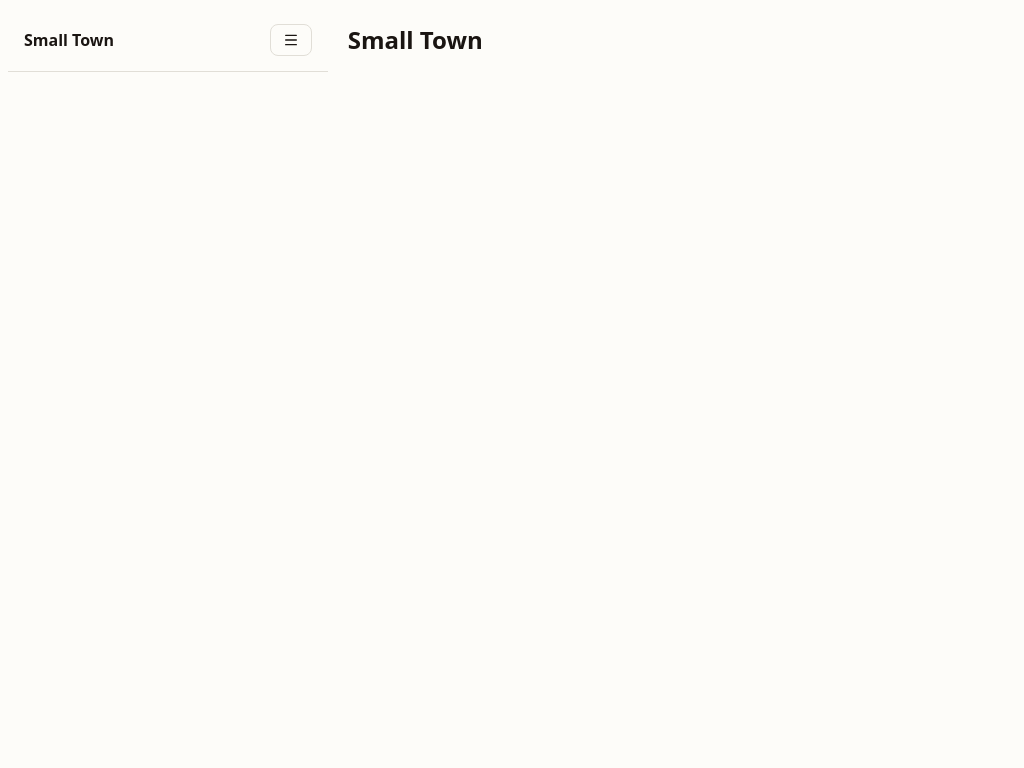
Test case: the side column on a phone › is a drawer behind a top bar: it opens, keeps focus in it, closes on Escape and after the player picks something
The image size is (1024, 768).
Step 1. Click the button named "Open the side panel" → [291, 40], box [270,24,312,56]
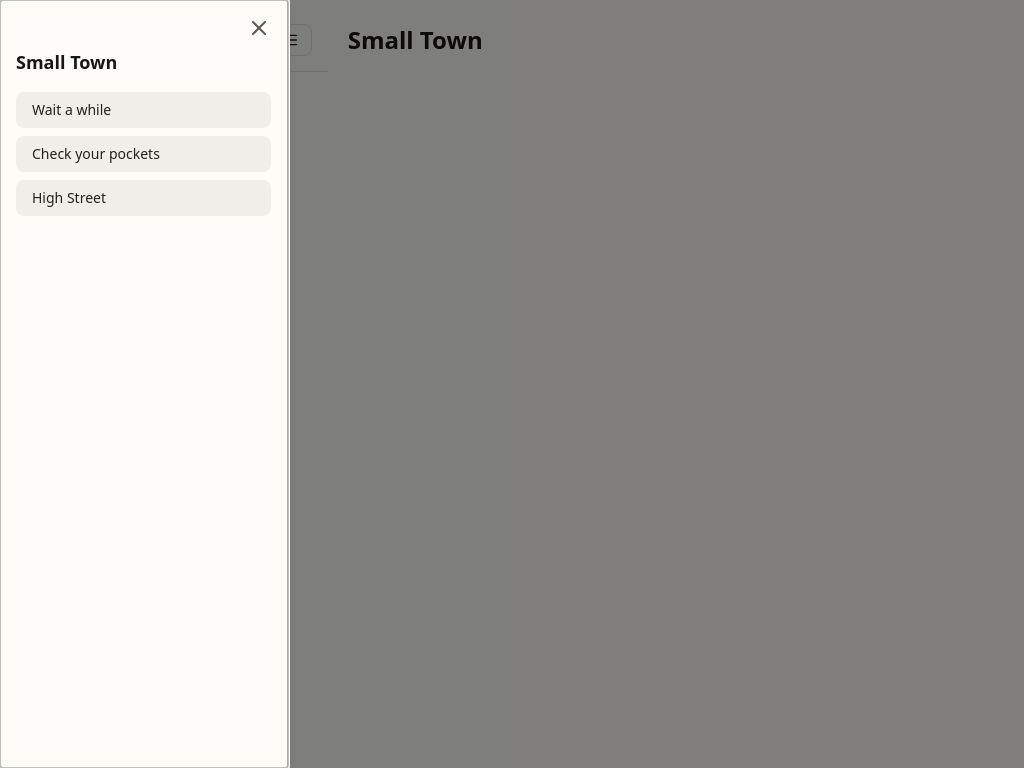
Expected: the heading "Small Town" is shown, [16,50,117,74]
Step 2. Press Escape in the dialog "Small Town", box [0,0,288,767]
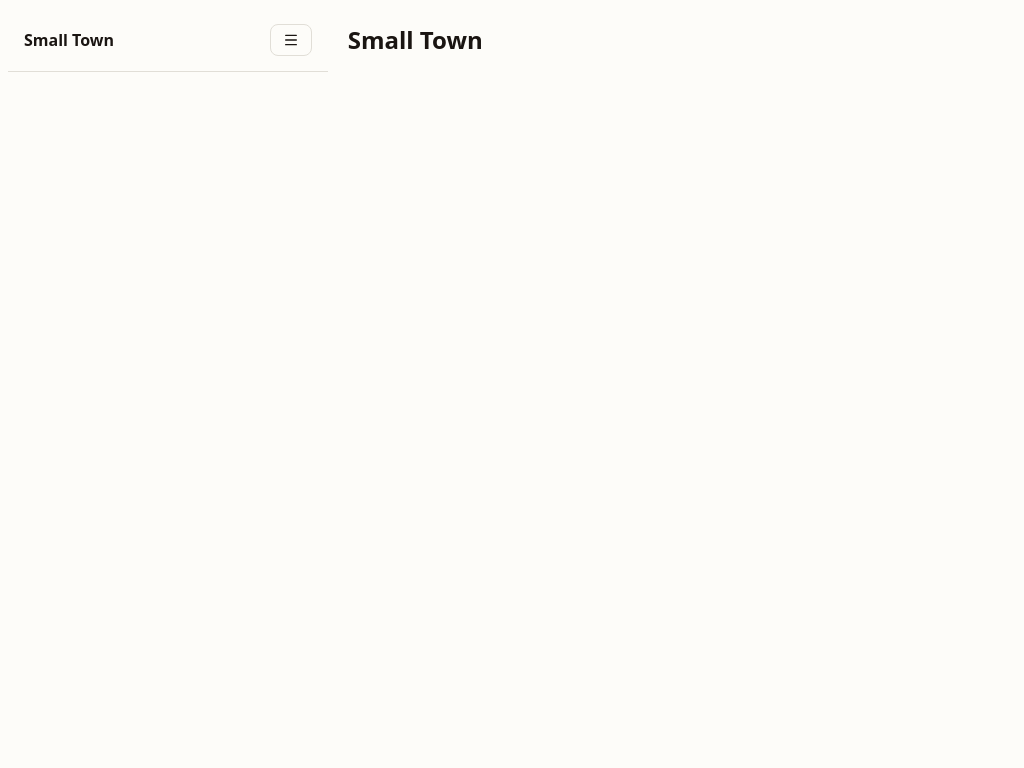
Expected: the dialog is gone
Step 3. Click the button named "Open the side panel" → [291, 40], box [270,24,312,56]
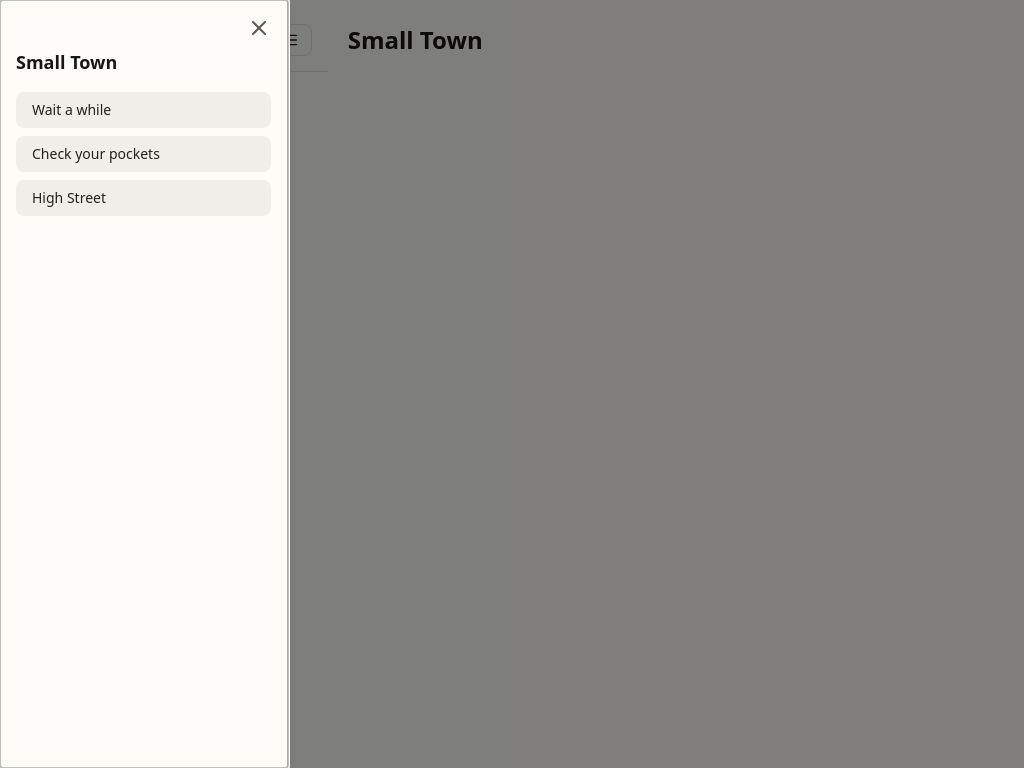
Step 4. Click the button "Wait a while" → [144, 110], box [16,92,271,128]
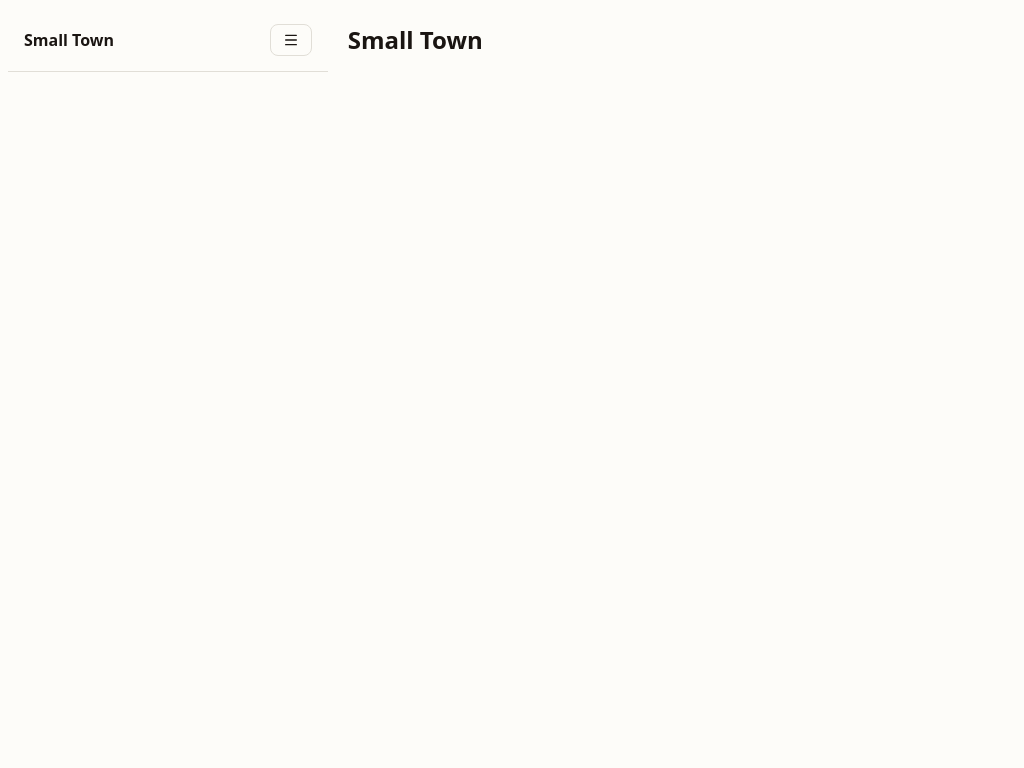
Expected: the dialog is gone
